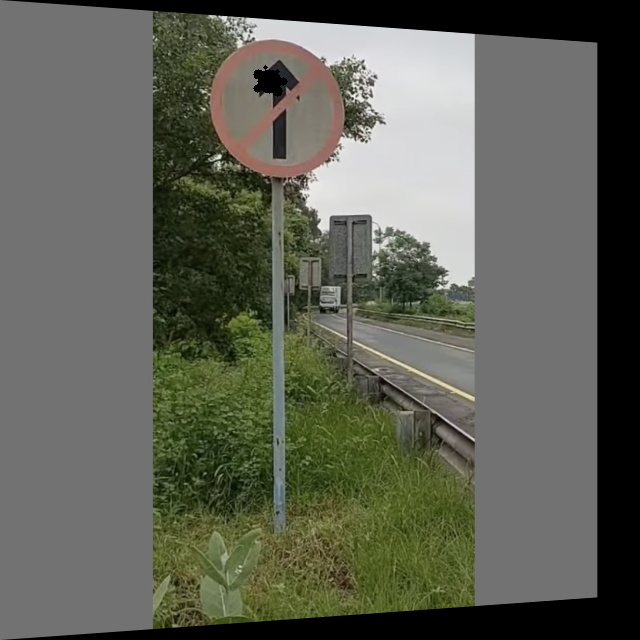No_Entry: (209, 37, 346, 177)
